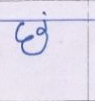anusvara: (43, 12, 46, 15)
